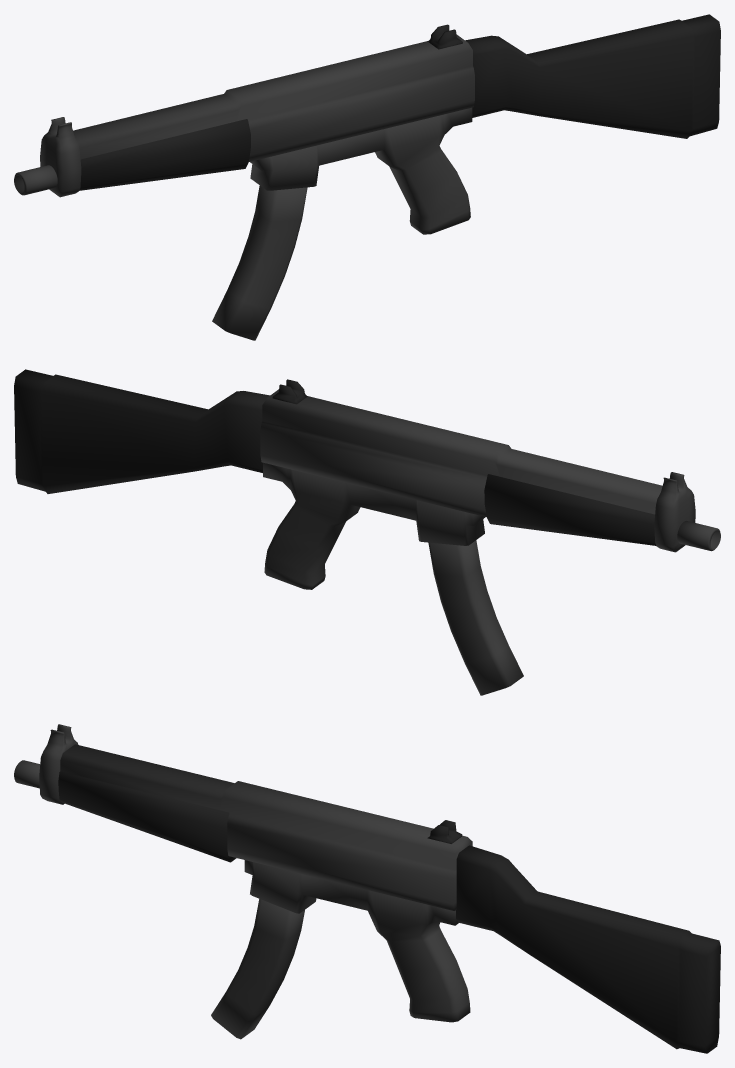
The picture shows the model from 3 angles, top to bottom: view 1: azimuth 30°, elevation 25°; view 2: azimuth 150°, elevation 25°; view 3: azimuth 330°, elevation 25°; orthographic projection.
Parts seen in each view (by area): view 1: Cube; view 2: Cube; view 3: Cube.
Boxes of the visible parts, x1=… form: Cube: x1=14, y1=14, x2=720, y2=340; Cube: x1=14, y1=369, x2=720, y2=695; Cube: x1=14, y1=724, x2=720, y2=1053.
Size of the model in its own units: 978 by 349 by 62.19.
Materials: 1 (1 with a texture image).
